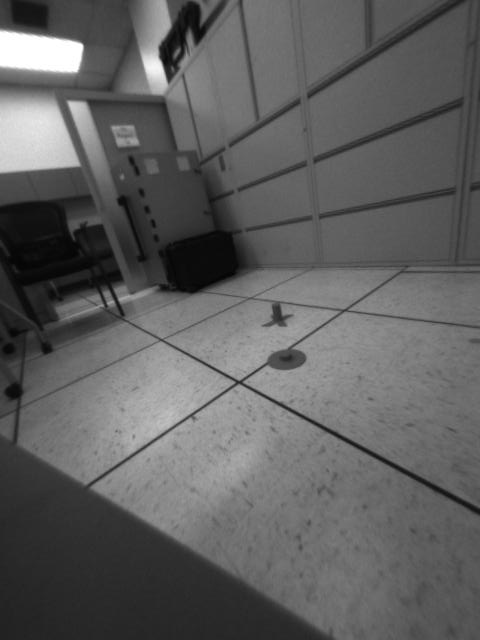X: (258, 301, 296, 331)
